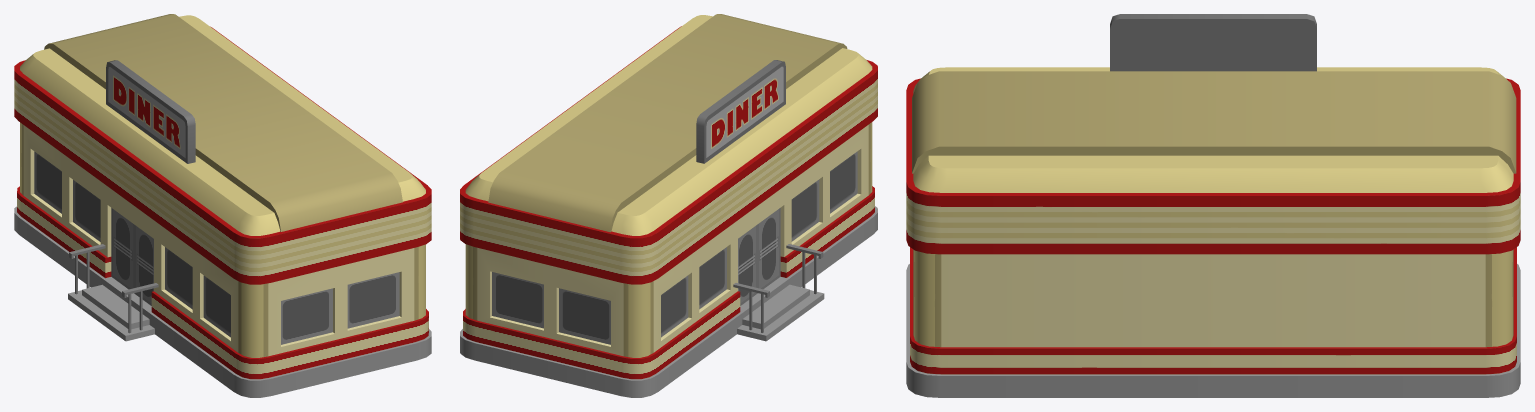
The model's file is west_fangzi02.FBX.
3 renders of one model, left to right at view 1: azimuth 30°, elevation 25°; view 2: azimuth 150°, elevation 25°; view 3: azimuth 270°, elevation 25°, orthographic. The views are drawn at different scales.
Parts seen in each view (by area): view 1: west_fangzi02; view 2: west_fangzi02; view 3: west_fangzi02.
Part boxes in pixels (bbox=[...]): west_fangzi02: bbox=[14, 14, 431, 397]; west_fangzi02: bbox=[460, 14, 877, 397]; west_fangzi02: bbox=[906, 14, 1520, 397].
Bounding box in the file's own units: 2054 × 1924 × 3866.
